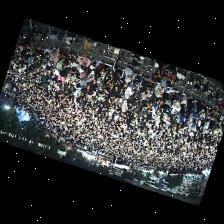person: (112, 54, 125, 78), (171, 94, 181, 114), (78, 54, 91, 68), (143, 77, 155, 92), (163, 87, 177, 99), (65, 52, 78, 64), (125, 67, 137, 80), (187, 98, 198, 112), (163, 99, 171, 118), (99, 63, 110, 76), (152, 92, 163, 105), (125, 81, 133, 98), (196, 102, 207, 114), (155, 83, 165, 96), (180, 110, 188, 126), (181, 94, 190, 108), (113, 78, 123, 90), (133, 73, 142, 86), (134, 97, 143, 110), (105, 72, 114, 85), (155, 100, 163, 114), (141, 86, 150, 98), (72, 59, 81, 71), (122, 77, 132, 87), (194, 103, 199, 123), (49, 55, 59, 65), (97, 72, 106, 83), (208, 108, 217, 119), (200, 107, 207, 121), (43, 46, 51, 58), (134, 80, 142, 92), (67, 67, 77, 76), (83, 66, 93, 75), (57, 75, 66, 85), (56, 60, 63, 72), (34, 47, 44, 55), (87, 71, 95, 81), (90, 60, 100, 68), (33, 55, 42, 63), (137, 90, 143, 102), (51, 47, 60, 55), (189, 111, 194, 124), (216, 112, 223, 121), (158, 61, 166, 68), (30, 42, 35, 53), (79, 68, 83, 77)
